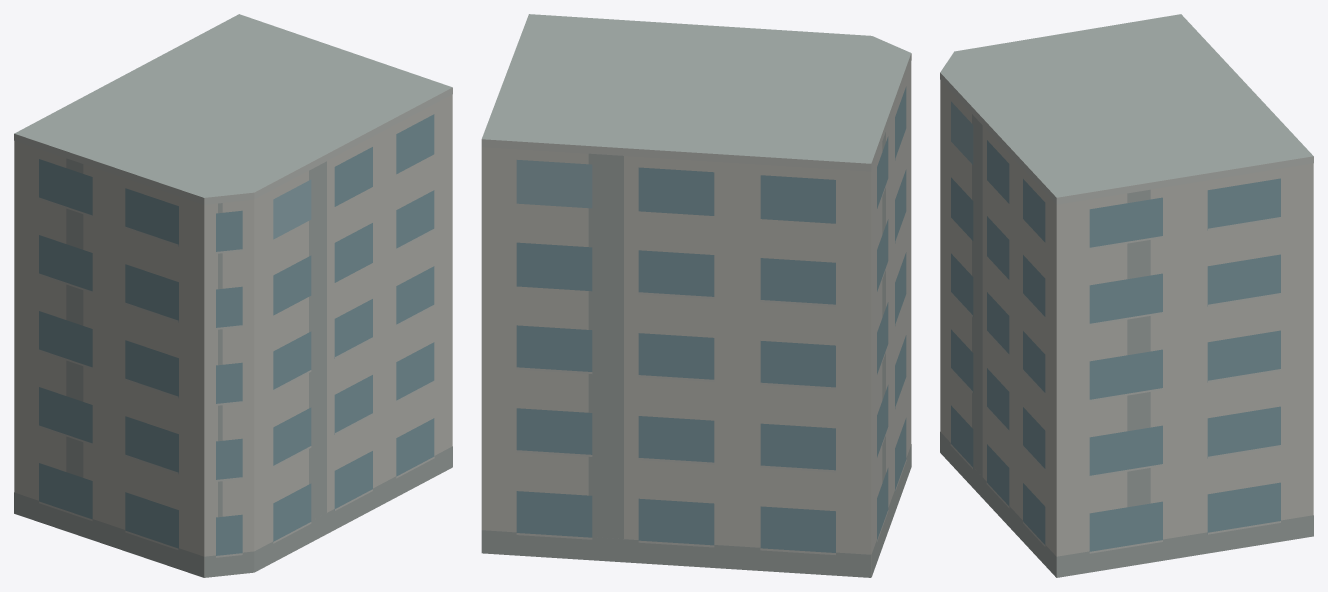
File: survey-upis-32837001.glb
3 views of the same model, side by side, from view 1: azimuth 30°, elevation 25°; view 2: azimuth 150°, elevation 25°; view 3: azimuth 270°, elevation 25° (orthographic). The views are drawn at different scales.
Parts seen in each view (by area): view 1: survey-upis-32837001.tmp; view 2: survey-upis-32837001.tmp; view 3: survey-upis-32837001.tmp.
Part boxes in pixels (x1=…): survey-upis-32837001.tmp: x1=14, y1=14, x2=452, y2=577; survey-upis-32837001.tmp: x1=481, y1=14, x2=911, y2=577; survey-upis-32837001.tmp: x1=940, y1=14, x2=1313, y2=577.
Bounding box in the file's own units: 13.59 × 13.1 × 11.68.
